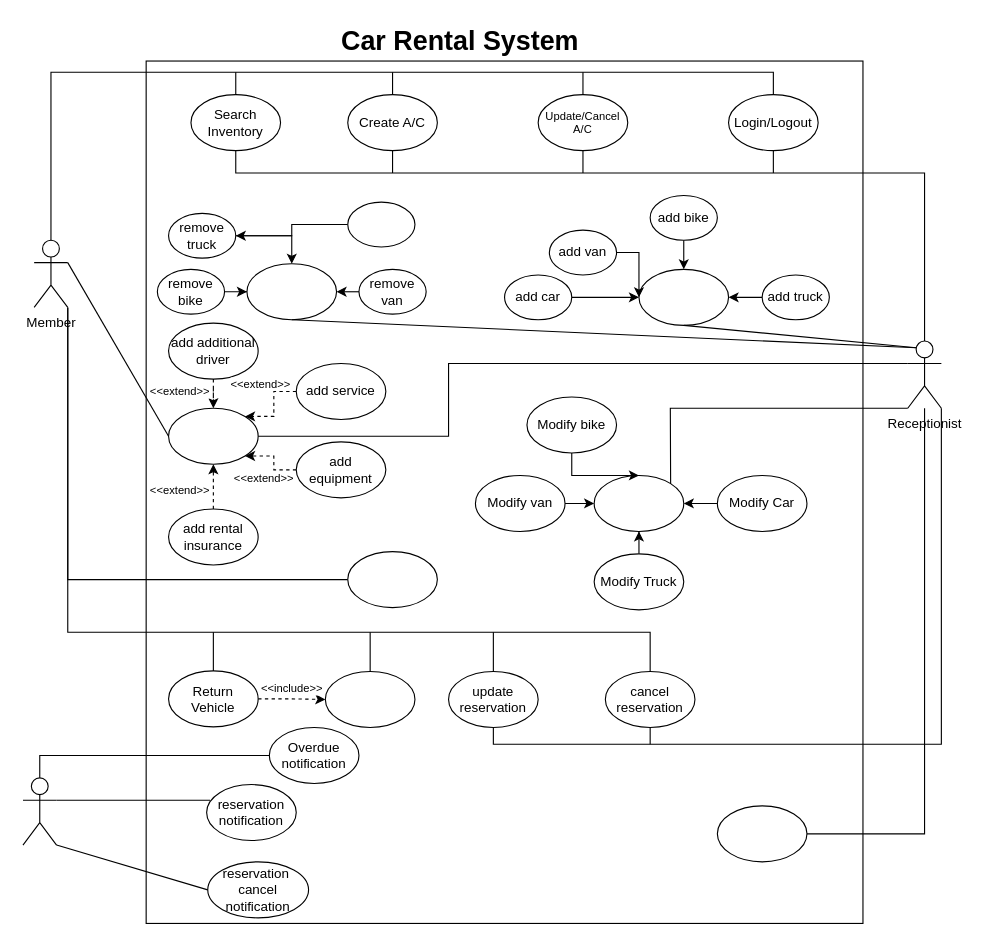
Some shapes in this 981 by 943 pixel diagram are drawn without their labels. The box of each missing label's shape, as (x1, y1, x2, y2) in pixels:
Add Vehicle: (638, 268, 729, 325)
Make a reservation: (167, 407, 258, 464)
Modify Vehicle: (593, 474, 684, 531)
Pay Bill: (324, 670, 415, 727)
Pickup Vehicle: (347, 550, 437, 608)
remove car: (347, 201, 415, 247)
Remove Vehicle: (246, 263, 337, 320)
System: (22, 777, 57, 845)
Update Log: (716, 805, 807, 862)
